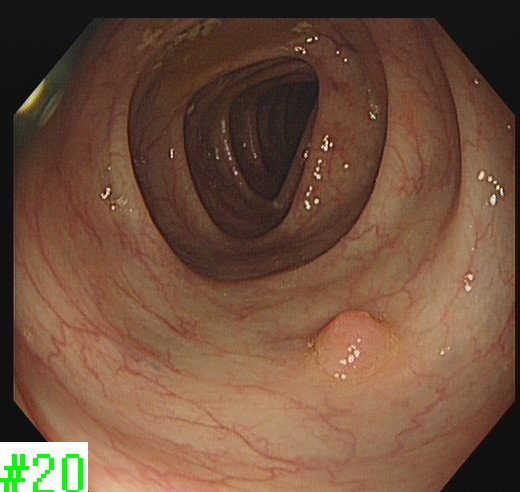adenoma: (311, 307, 399, 382)
